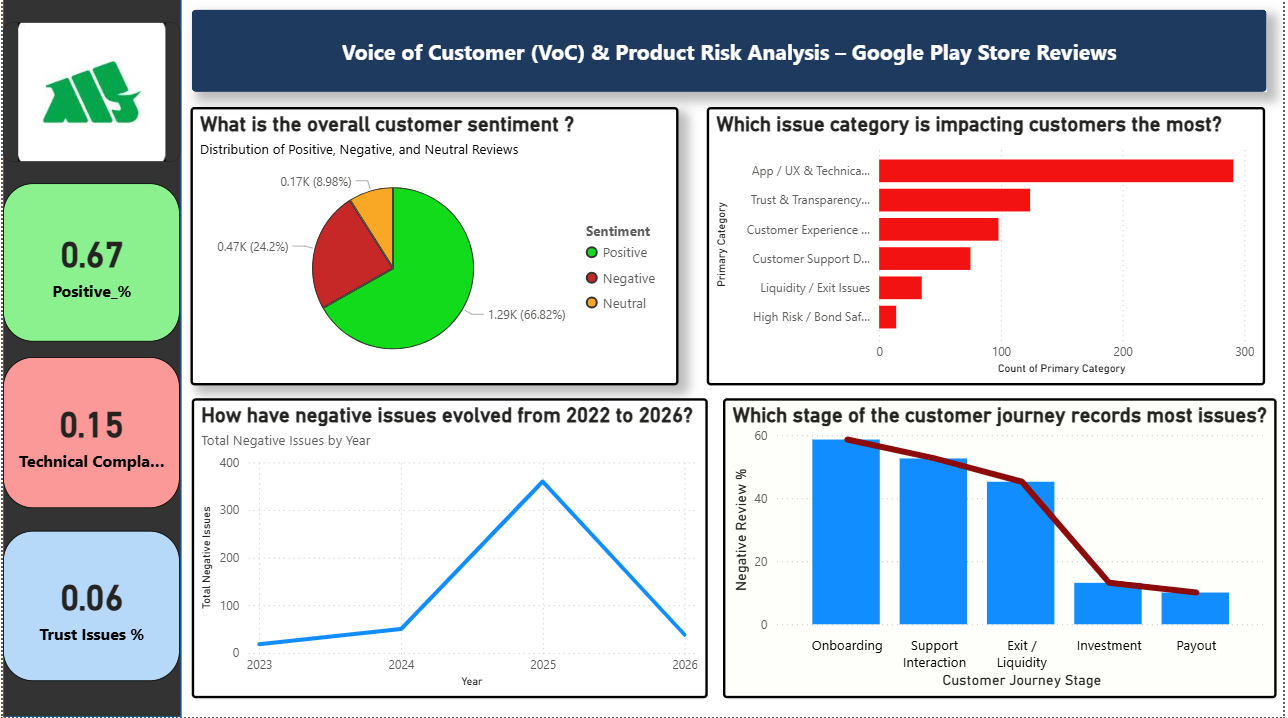

The page's visual inventory and layout, read from the dashboard file:
{"tool":"powerbi","page":{"name":"Page 1","canvas":[1280,720],"ordinal":0},"visuals":[{"type":"pieChart","title":"What is the overall customer sentiment ?","fields":{"Category":["ALL  DATA.Sentiment"],"Y":["CountNonNull(ALL  DATA.Sentiment)"]},"box":[188,110,488,278],"z":0},{"type":"shape","box":[188.8,12.5,1075,82.5],"z":1000},{"type":"shape","box":[0,0,178.4,720.4],"z":2000},{"type":"textbox","box":[216.8,522.8,919.4,112.5],"z":3000},{"type":"image","box":[0,25,177.5,140],"z":4000},{"type":"card","fields":{"Values":["Customer_Sentiment_Master.Positive_%"]},"box":[0,185.7,177.1,158.6],"z":5000},{"type":"card","fields":{"Values":["Customer_Sentiment_Master.Trust Issues %"]},"box":[0,534.3,177.1,150],"z":6000},{"type":"barChart","title":"Which issue category is impacting customers the most?","fields":{"Category":["Customer_Sentiment_Master.Primary Category"],"Y":["CountNonNull(Customer_Sentiment_Master.Primary Category)"]},"box":[704,110,558,278],"z":7000},{"type":"lineChart","title":"How have negative issues evolved from 2022 to 2026?","fields":{"Category":["Customer_Sentiment_Master.Year"],"Y":["Customer_Sentiment_Master.Total Negative Issues"]},"box":[188.8,401.2,516.2,300],"z":8000},{"type":"lineStackedColumnComboChart","title":"Which stage of the customer journey records most issues?","fields":{"Category":["Customer_Sentiment_Master.Customer Journey Stage"],"Y":["Customer_Sentiment_Master.Total Negative Issues"],"Y2":["Customer_Sentiment_Master.Total Negative Issues"]},"box":[720,401.2,553.8,300],"z":9000},{"type":"card","fields":{"Values":["Customer_Sentiment_Master.Technical Complaint %"]},"box":[0,360,177.1,151.4],"z":10000}]}

Visuals, with their boxes in screenshot pixels (x1, y1, x2, y2), scaled from the page's 1280x720 canvas onto the 1288x718 screenshot:
"What is the overall customer sentiment ?" pieChart: x1=189, y1=110, x2=680, y2=387
shape: x1=190, y1=12, x2=1272, y2=95
shape: x1=0, y1=0, x2=180, y2=717
textbox: x1=218, y1=521, x2=1143, y2=634
image: x1=0, y1=25, x2=179, y2=165
card - Customer_Sentiment_Master.Positive_%: x1=0, y1=185, x2=178, y2=343
card - Customer_Sentiment_Master.Trust Issues %: x1=0, y1=533, x2=178, y2=682
"Which issue category is impacting customers the most?" barChart: x1=708, y1=110, x2=1270, y2=387
"How have negative issues evolved from 2022 to 2026?" lineChart: x1=190, y1=400, x2=709, y2=699
"Which stage of the customer journey records most issues?" lineStackedColumnComboChart: x1=725, y1=400, x2=1282, y2=699
card - Customer_Sentiment_Master.Technical Complaint %: x1=0, y1=359, x2=178, y2=510
